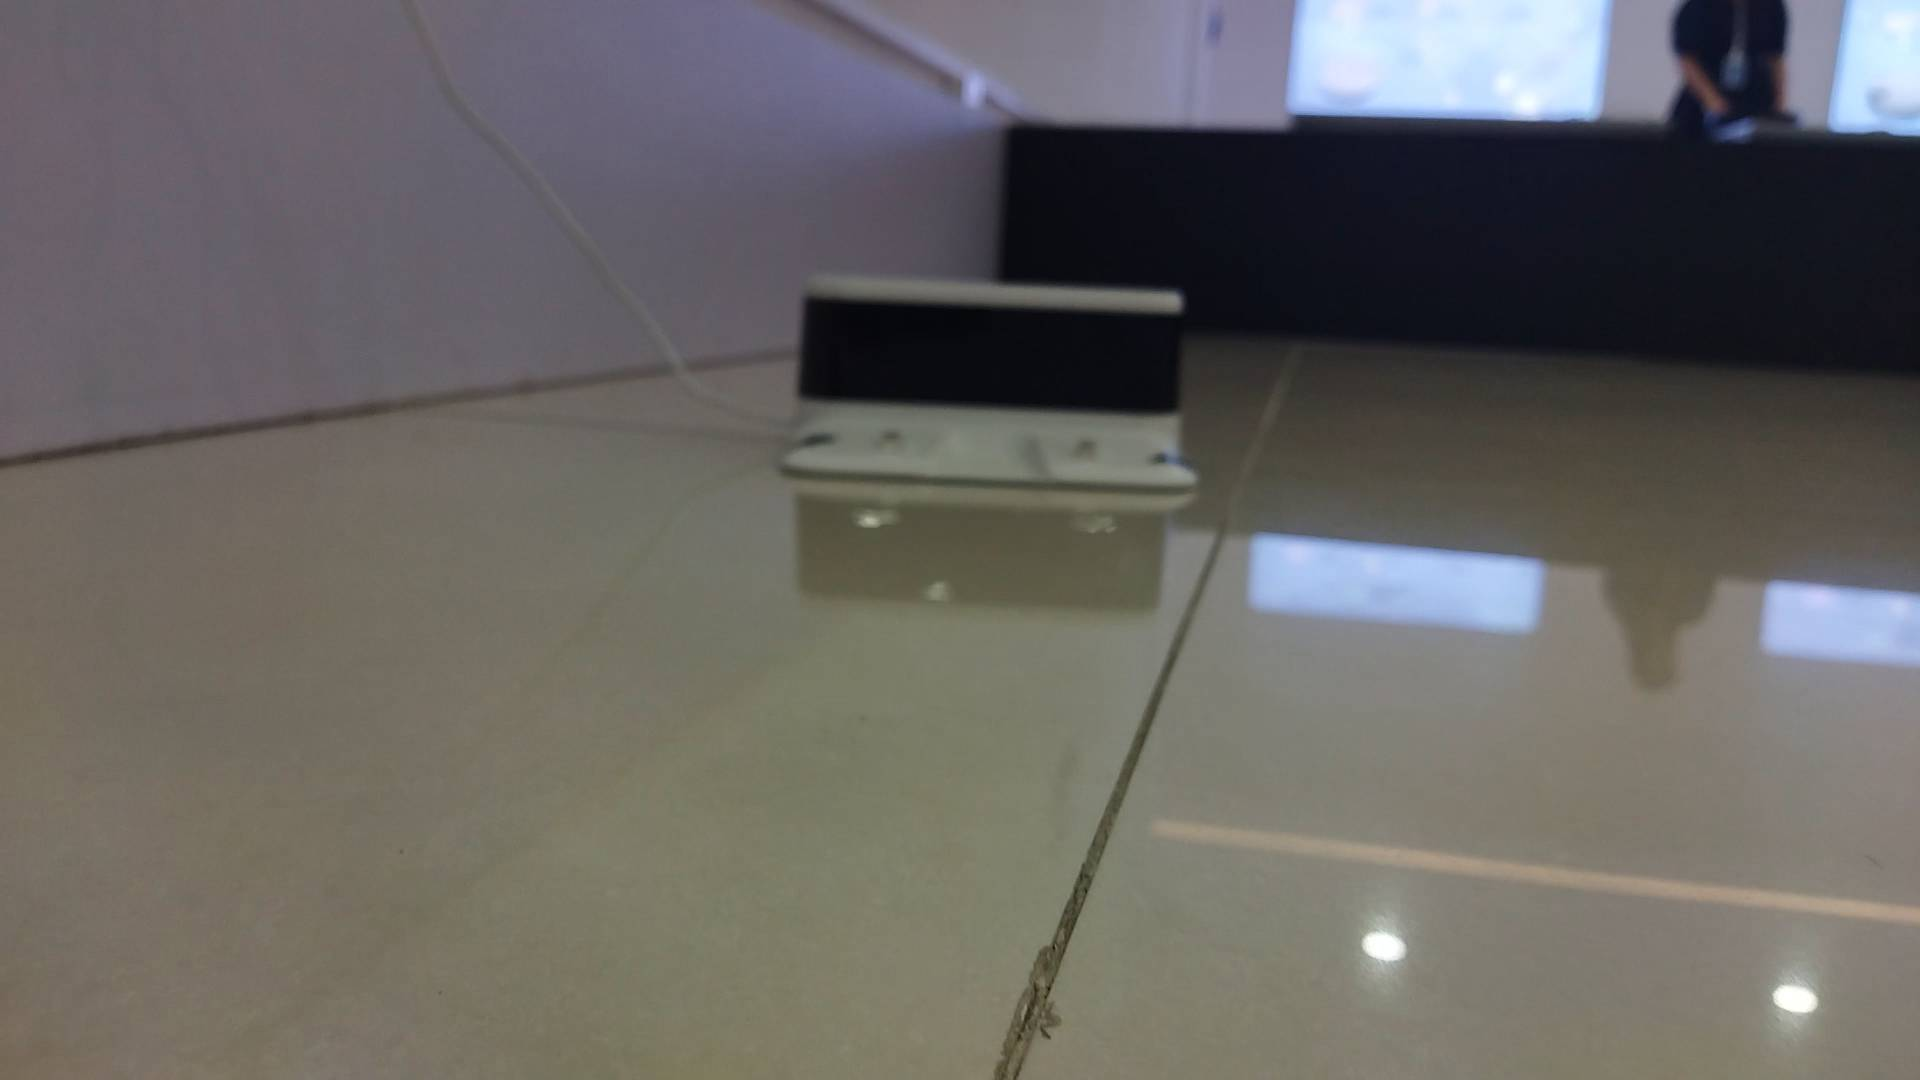recharge seat: (775, 272, 1201, 495)
